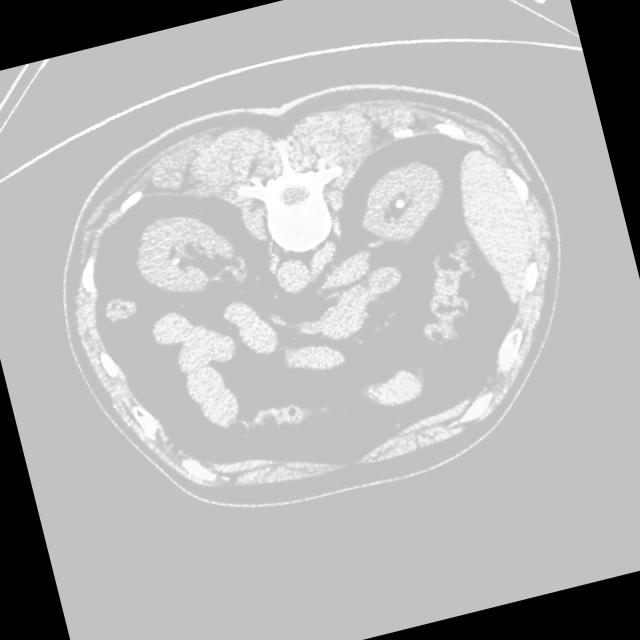STONE: (345, 133, 532, 405)
